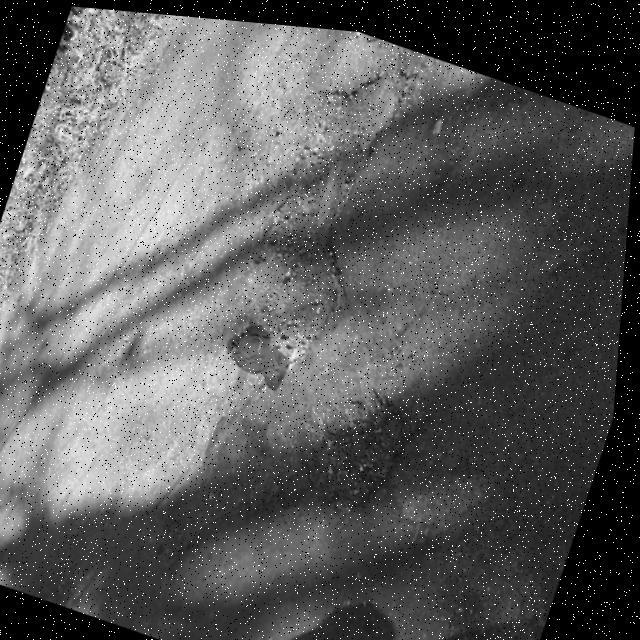pothole: (210, 26, 426, 402), (280, 369, 430, 536)
